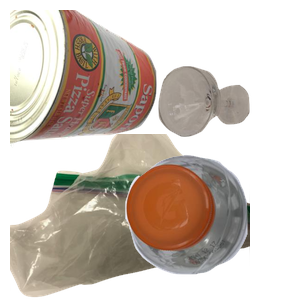glass: (156, 64, 300, 194)
metal: (10, 10, 159, 152)
plastic: (123, 152, 300, 300)
trash: (10, 134, 250, 300)
